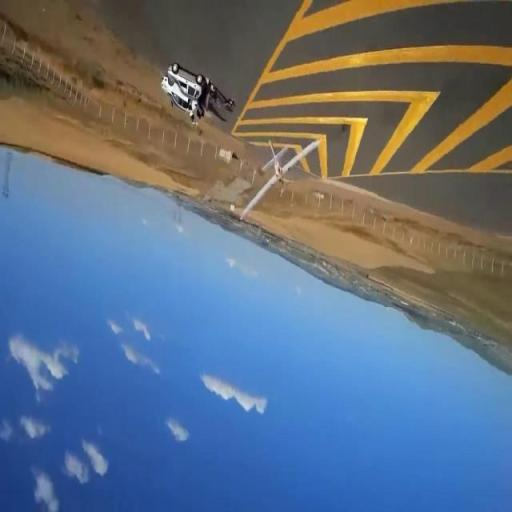uav: (242, 141, 318, 221)
